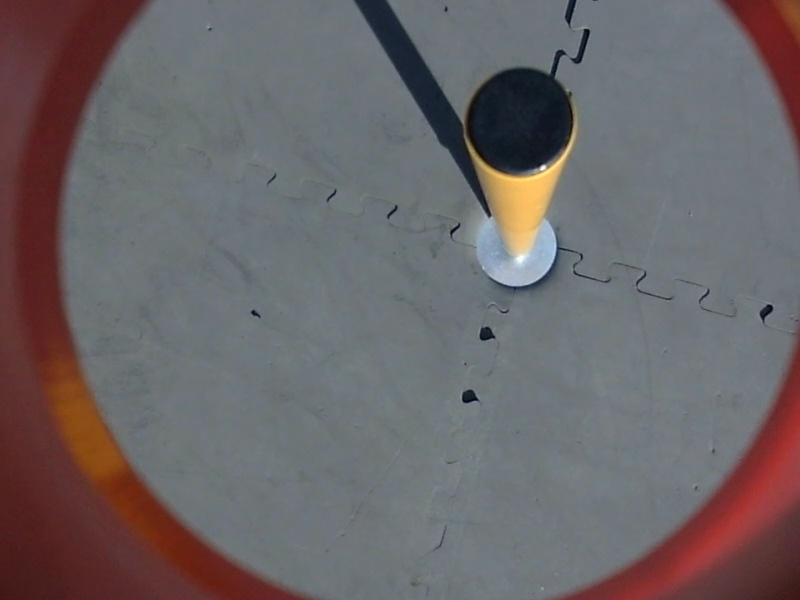tip: (461, 63, 585, 186)
